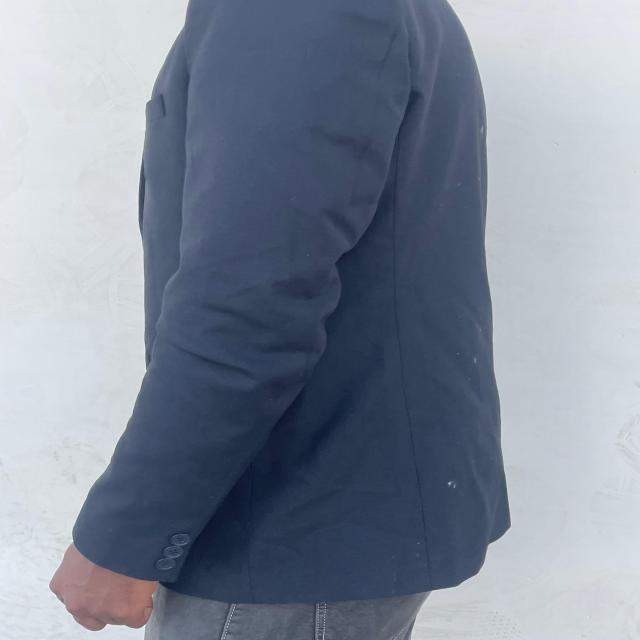uniform: (69, 1, 512, 626)
